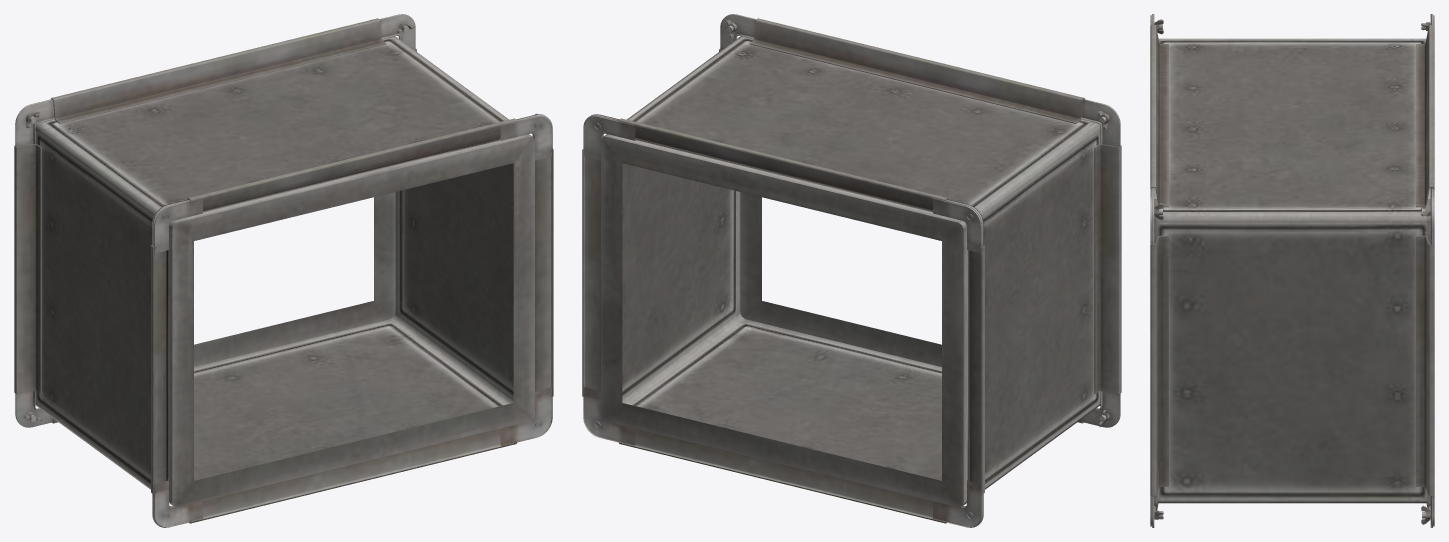
Rendered from half_01.gltf.
3 renders of one model, left to right at view 1: azimuth 30°, elevation 25°; view 2: azimuth 150°, elevation 25°; view 3: azimuth 270°, elevation 25°, orthographic.
Visible parts, largest first — view 1: half_01; view 2: half_01; view 3: half_01.
Part boxes in pixels (<box>): half_01: <box>14,14,553,527</box>; half_01: <box>582,14,1121,527</box>; half_01: <box>1150,14,1434,527</box>.
Bounding box in the file's own units: 0.6634 × 0.5126 × 0.4.
Materials: 1 (1 with a texture image).
